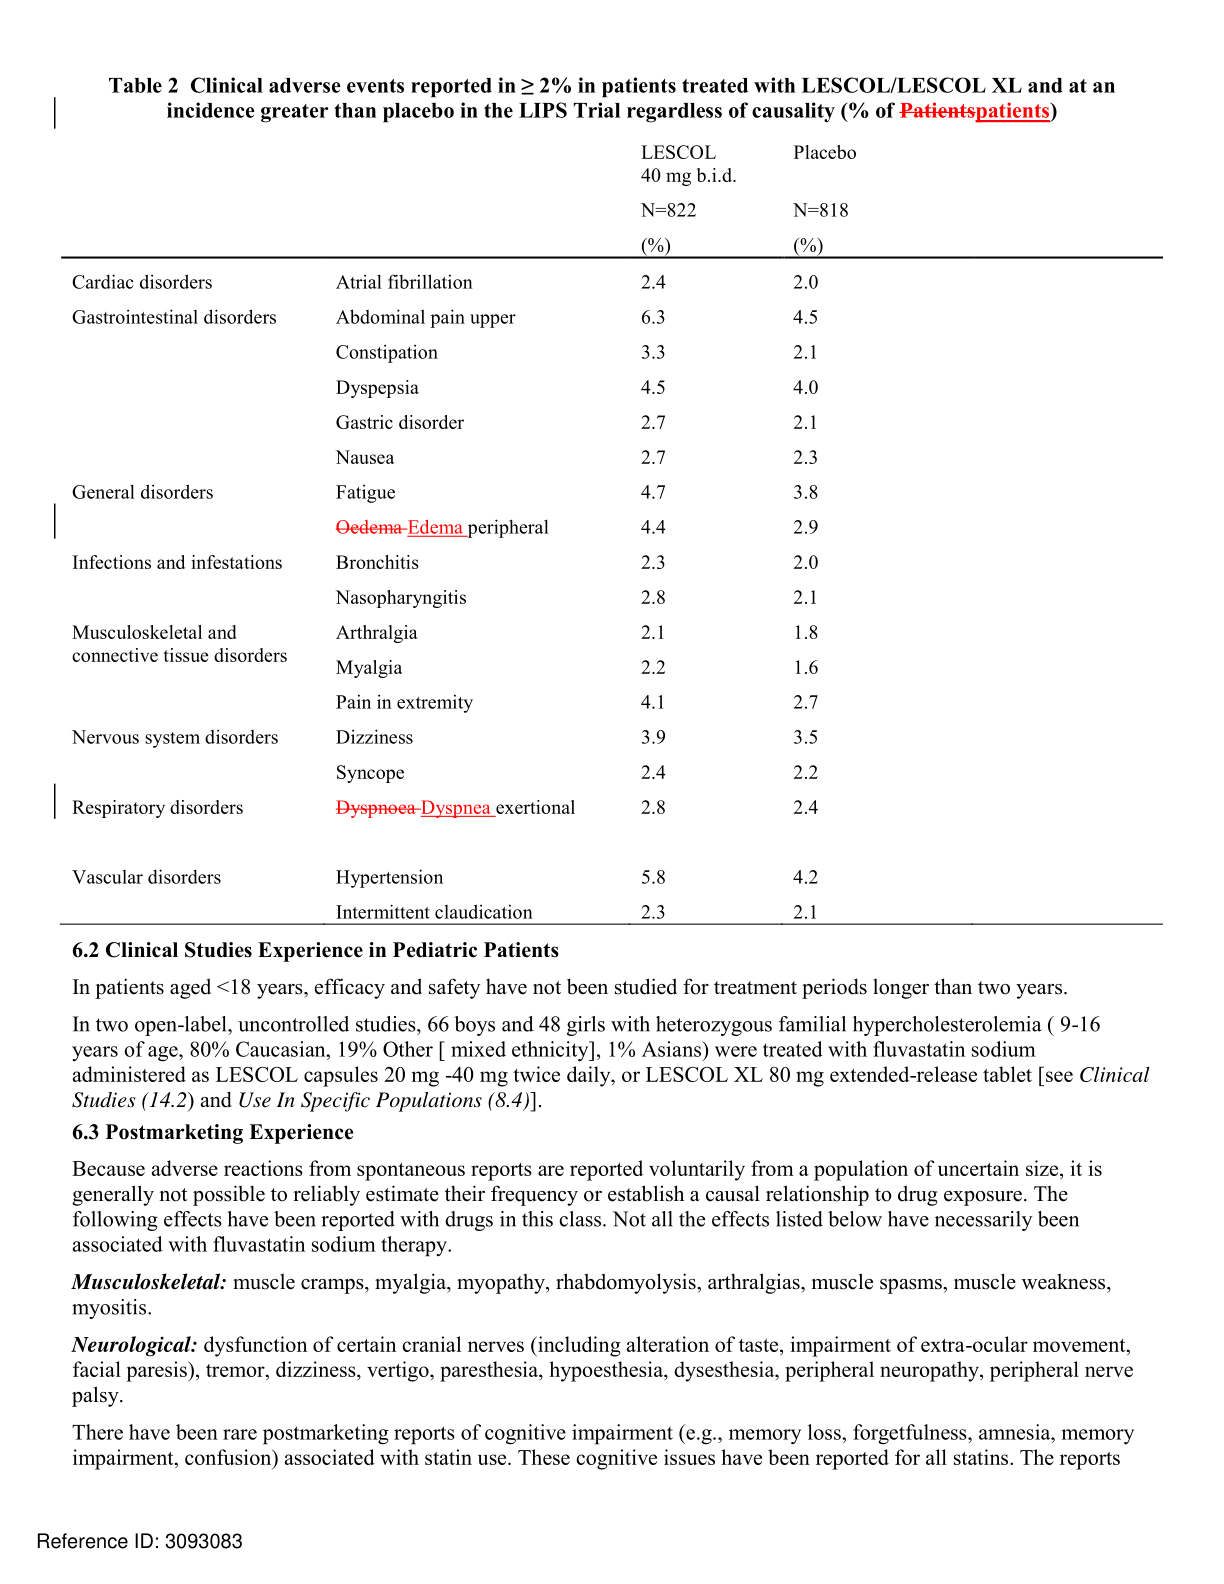partial_lined: (59, 140, 1164, 927)
